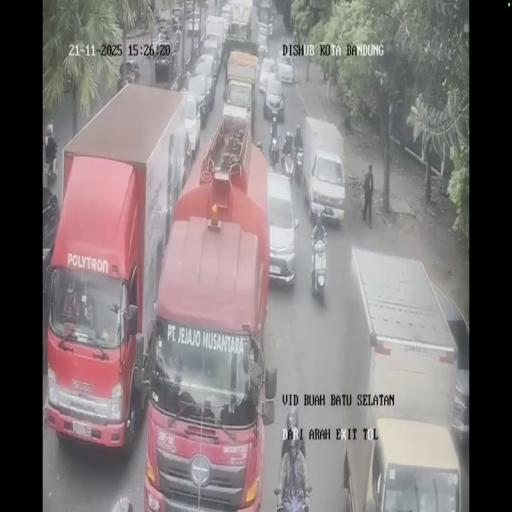car: (266, 170, 296, 289), (307, 150, 345, 228), (185, 72, 210, 132), (264, 78, 286, 120), (200, 38, 221, 78), (150, 31, 171, 59), (275, 55, 294, 84), (220, 4, 232, 30), (257, 21, 270, 44), (172, 5, 182, 25)
motorcycle: (281, 146, 295, 184), (45, 148, 58, 184), (268, 135, 280, 168), (293, 149, 303, 183), (258, 41, 268, 67)
truck: (48, 82, 196, 458), (337, 248, 461, 510), (186, 8, 202, 44), (158, 8, 172, 35)
